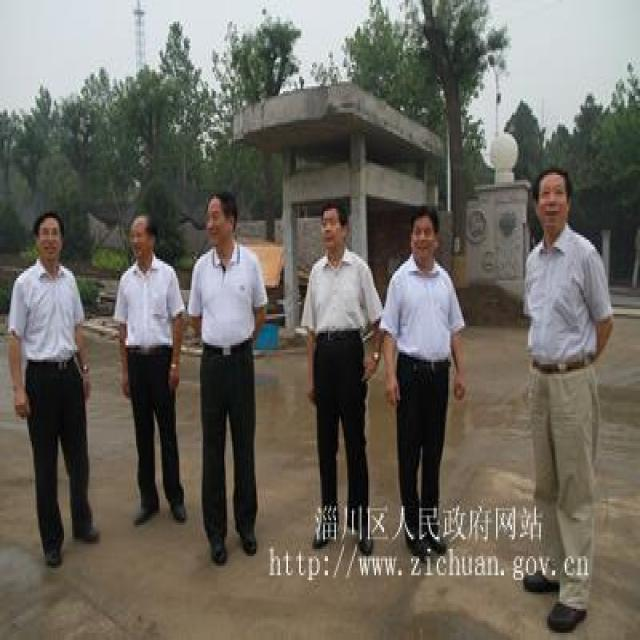boots: (547, 602, 587, 632), (313, 503, 338, 549), (523, 571, 560, 593), (421, 531, 446, 556), (405, 530, 427, 557), (134, 506, 158, 526), (72, 526, 100, 542), (210, 540, 226, 564), (240, 532, 256, 555), (170, 500, 186, 522), (43, 549, 61, 567), (358, 536, 373, 555)
person: (521, 168, 615, 632), (7, 210, 100, 568), (377, 206, 467, 558), (185, 190, 269, 565), (300, 204, 384, 556), (113, 213, 187, 527)
